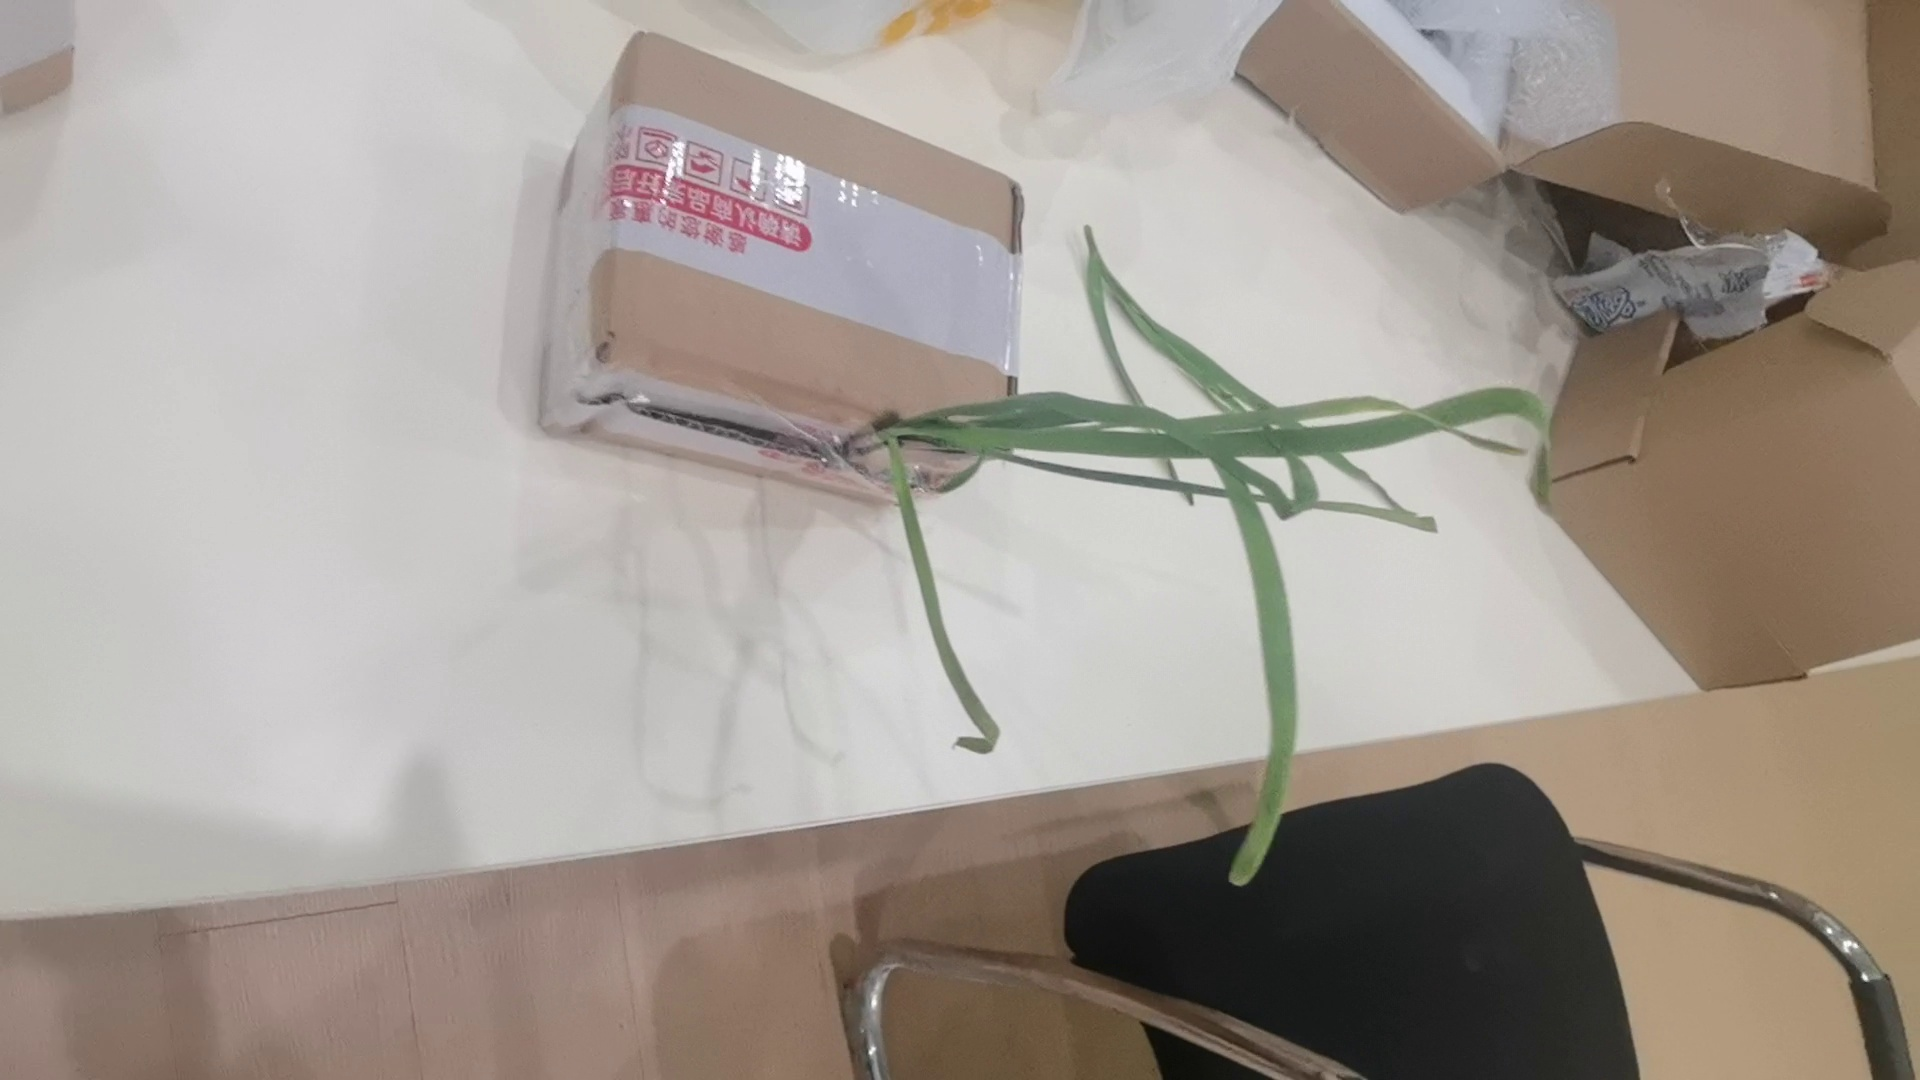chives: (833, 373, 1572, 887), (1079, 215, 1273, 395)
